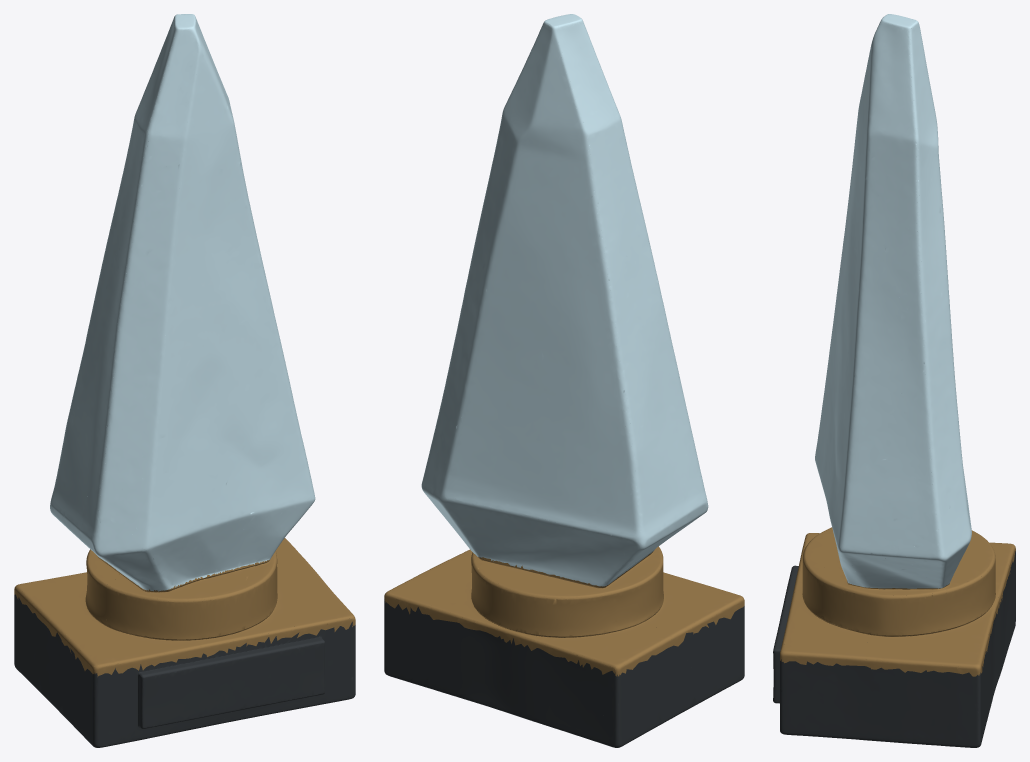
File: crystal.glb
The picture shows the model from 3 angles, left to right: view 1: azimuth 30°, elevation 25°; view 2: azimuth 150°, elevation 25°; view 3: azimuth 270°, elevation 25°; orthographic projection.
Parts seen in each view (by area): view 1: model; view 2: model; view 3: model.
Part boxes in pixels (x1,y1,x2,y2): model: (14,14,355,747); model: (384,14,744,747); model: (773,14,1015,747).
Size of the model in its own units: 0.1748 by 0.4 by 0.1331.
